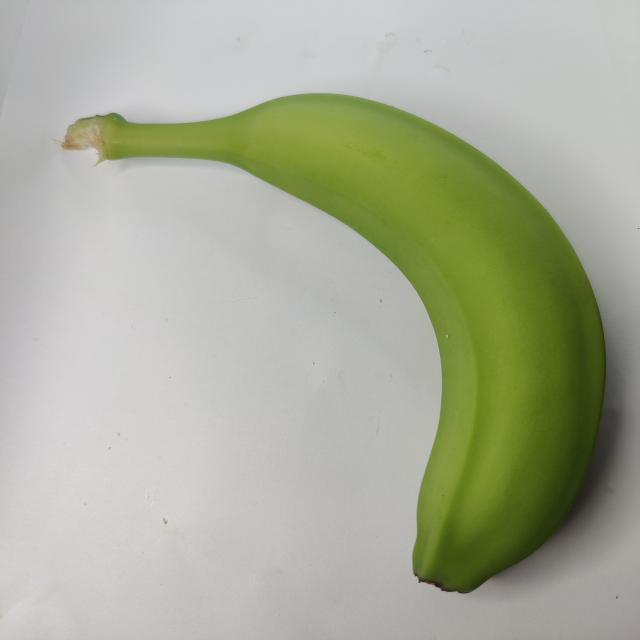raw: (58, 80, 639, 600)
